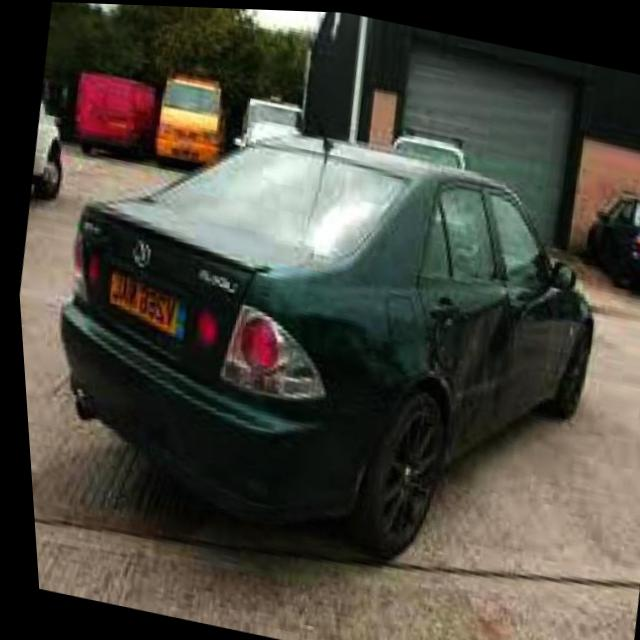Car-Damage: (395, 277, 524, 470)
